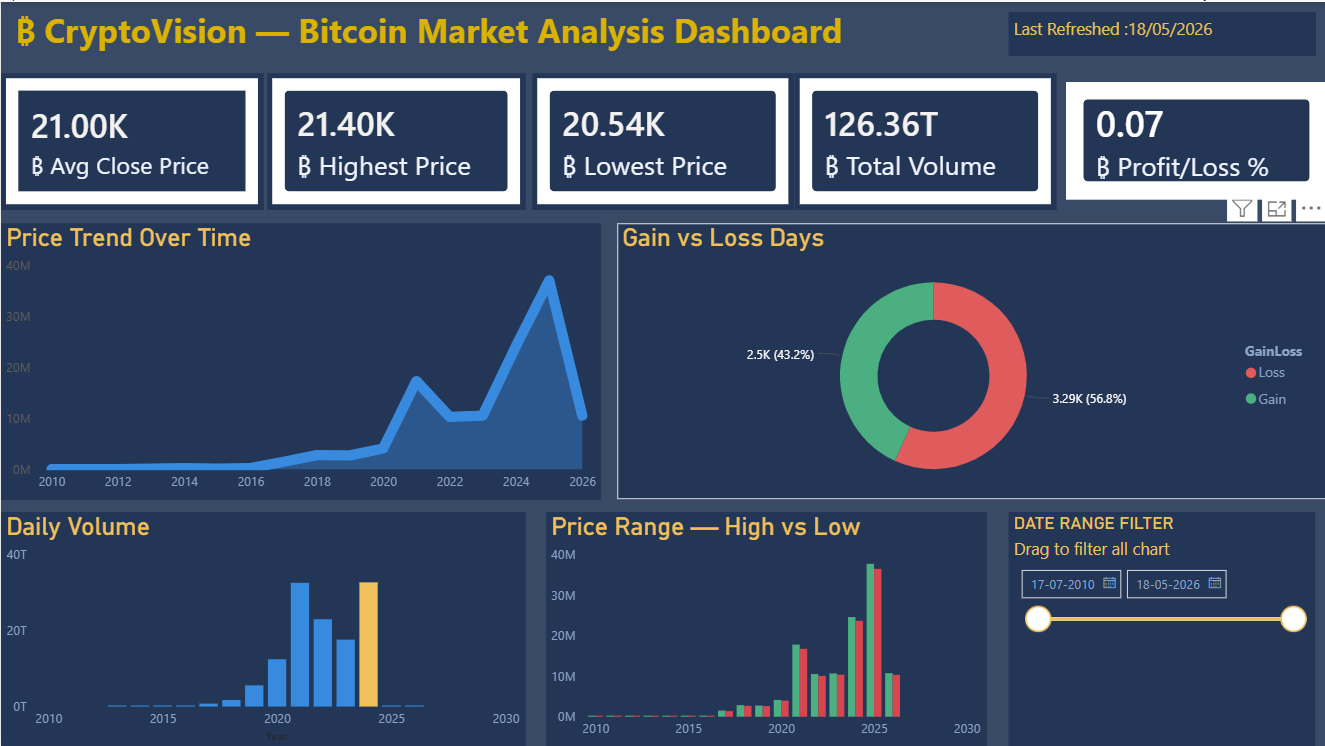

Layout of this report page (visuals, bound fields, positions):
{"tool":"powerbi","page":{"name":"Page 1","canvas":[1280,720],"ordinal":0},"visuals":[{"type":"textbox","box":[9.1,0,839,68.8],"z":0},{"type":"cardVisual","fields":{"Data":["Avg(StockData.Close price)"]},"box":[0,68.6,253.9,131.7],"z":1000},{"type":"cardVisual","fields":{"Data":["Avg(StockData.High Price)"]},"box":[256.6,68.6,249.7,131.7],"z":2000},{"type":"cardVisual","fields":{"Data":["Avg(StockData.Low price)"]},"box":[513.2,68.6,252.5,131.7],"z":3000},{"type":"cardVisual","fields":{"Data":["Sum(StockData.volume)"]},"box":[765.7,68.6,252.5,131.7],"z":4000},{"type":"areaChart","title":"Price Trend Over Time","fields":{"Category":["StockData.Date.Variation.Date Hierarchy.Year","StockData.Date.Variation.Date Hierarchy.Quarter","StockData.Date.Variation.Date Hierarchy.Month","StockData.Date.Variation.Date Hierarchy.Day"],"Y":["Sum(StockData.Close price)"]},"box":[0,213,579.2,267.5],"z":5000},{"type":"donutChart","title":"Gain vs Loss Days","fields":{"Category":["StockData.GainLoss"],"Y":["CountNonNull(StockData.Date)"]},"box":[594.8,213,685.7,267.5],"z":6000},{"type":"clusteredColumnChart","title":"Daily Volume","fields":{"Category":["StockData.Date.Variation.Date Hierarchy.Year","StockData.Date.Variation.Date Hierarchy.Quarter","StockData.Date.Variation.Date Hierarchy.Month","StockData.Date.Variation.Date Hierarchy.Day"],"Y":["Sum(StockData.volume)"]},"box":[0,492.6,506.3,227.8],"z":7000},{"type":"clusteredColumnChart","title":"Price Range — High vs Low","fields":{"Category":["StockData.Date.Variation.Date Hierarchy.Year","StockData.Date.Variation.Date Hierarchy.Quarter","StockData.Date.Variation.Date Hierarchy.Month","StockData.Date.Variation.Date Hierarchy.Day"],"Y":["Sum(StockData.High Price)","Sum(StockData.Low price)"]},"box":[525.6,492.6,425.4,227.8],"z":8000},{"type":"slicer","title":"DATE RANGE FILTER","fields":{"Values":["StockData.Date"]},"box":[972.7,492.2,296.1,227.3],"z":9000},{"type":"textbox","box":[972.1,10,296.5,42.8],"z":10000},{"type":"cardVisual","fields":{"Data":["StockData.PL Percentage"]},"box":[1027.8,76.8,252.5,113.9],"z":11000}]}

Visuals, with their boxes in screenshot pixels (x1, y1, x2, y2), scaled from the page's 1280x720 canvas onto the 1325x746 screenshot:
textbox: left=9, top=0, right=878, bottom=71
cardVisual - Avg(StockData.Close price): left=0, top=71, right=263, bottom=208
cardVisual - Avg(StockData.High Price): left=266, top=71, right=524, bottom=208
cardVisual - Avg(StockData.Low price): left=531, top=71, right=793, bottom=208
cardVisual - Sum(StockData.volume): left=793, top=71, right=1054, bottom=208
"Price Trend Over Time" areaChart: left=0, top=221, right=600, bottom=498
"Gain vs Loss Days" donutChart: left=616, top=221, right=1324, bottom=498
"Daily Volume" clusteredColumnChart: left=0, top=510, right=524, bottom=745
"Price Range — High vs Low" clusteredColumnChart: left=544, top=510, right=984, bottom=745
"DATE RANGE FILTER" slicer: left=1007, top=510, right=1313, bottom=745
textbox: left=1006, top=10, right=1313, bottom=55
cardVisual - StockData.PL Percentage: left=1064, top=80, right=1324, bottom=198
